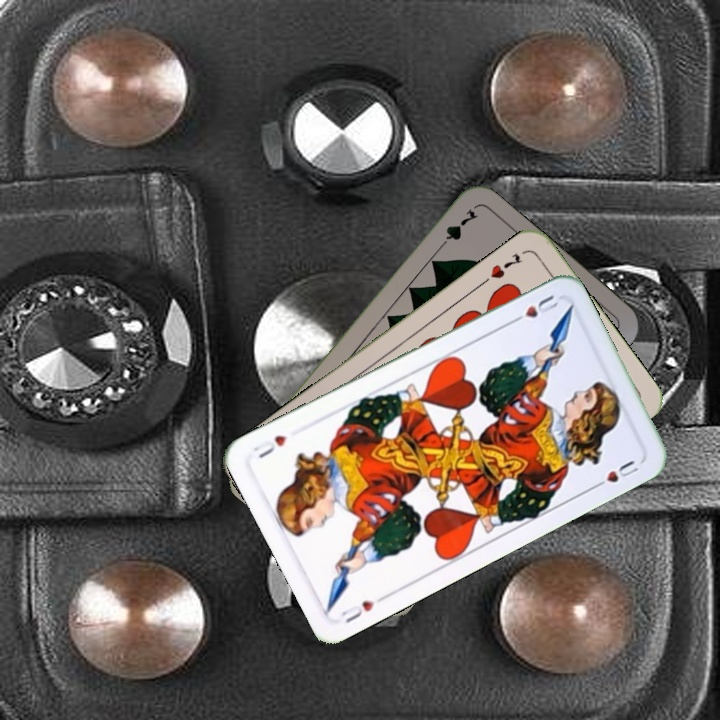G7: (433, 204, 480, 254)
H7: (477, 249, 524, 288)
HU: (506, 291, 561, 327), (337, 596, 378, 626)
